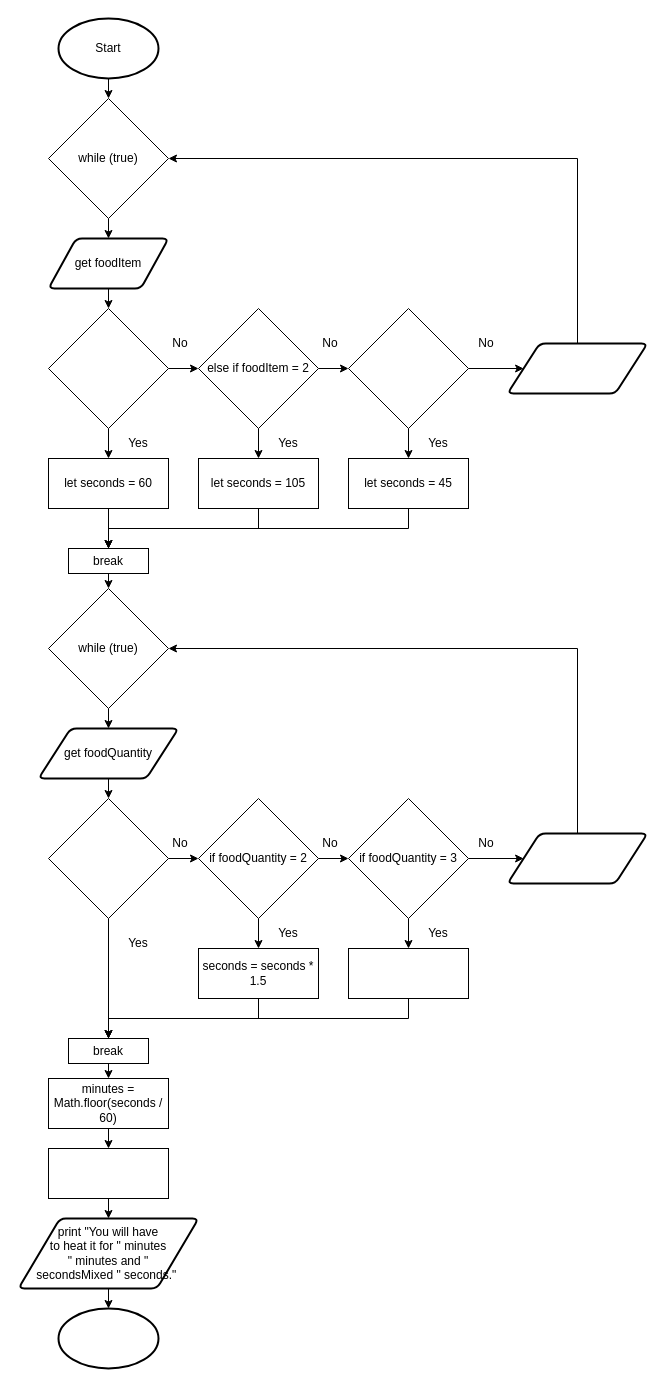
The diagram is 665 pixels wide and 1386 high, and some of its shapes have lost their labels. Here are the shapes that lost their labels. From the top down, the box of each, then its label:
(48, 308, 168, 428): if foodItem = 1
(348, 308, 468, 428): else if foodItem = 3
(506, 342, 648, 394): print Invalid Input, Try Again Please.
(48, 798, 168, 918): if foodQuantity = 1
(506, 832, 648, 884): print Invalid Input, Try Again with the numbers 1-3.
(348, 948, 468, 998): seconds = seconds * 2
(48, 1148, 168, 1198): secondsMixed = seconds % 60
(57, 1307, 159, 1369): Stop
